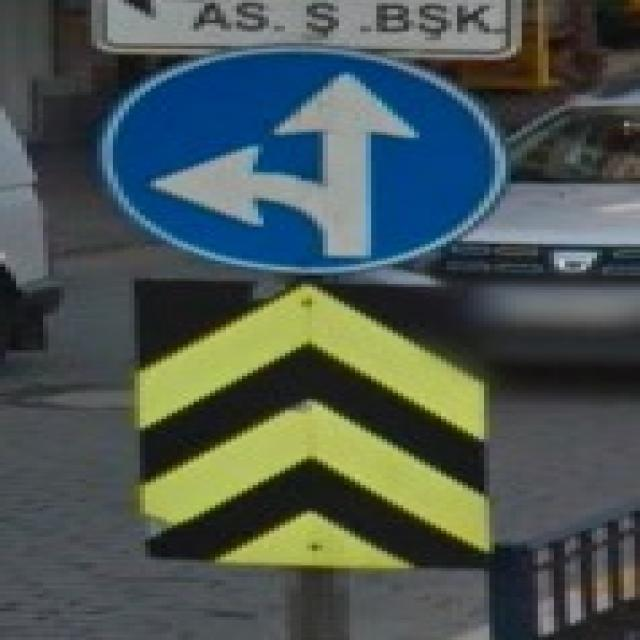Straight or Left: (101, 46, 509, 275)
